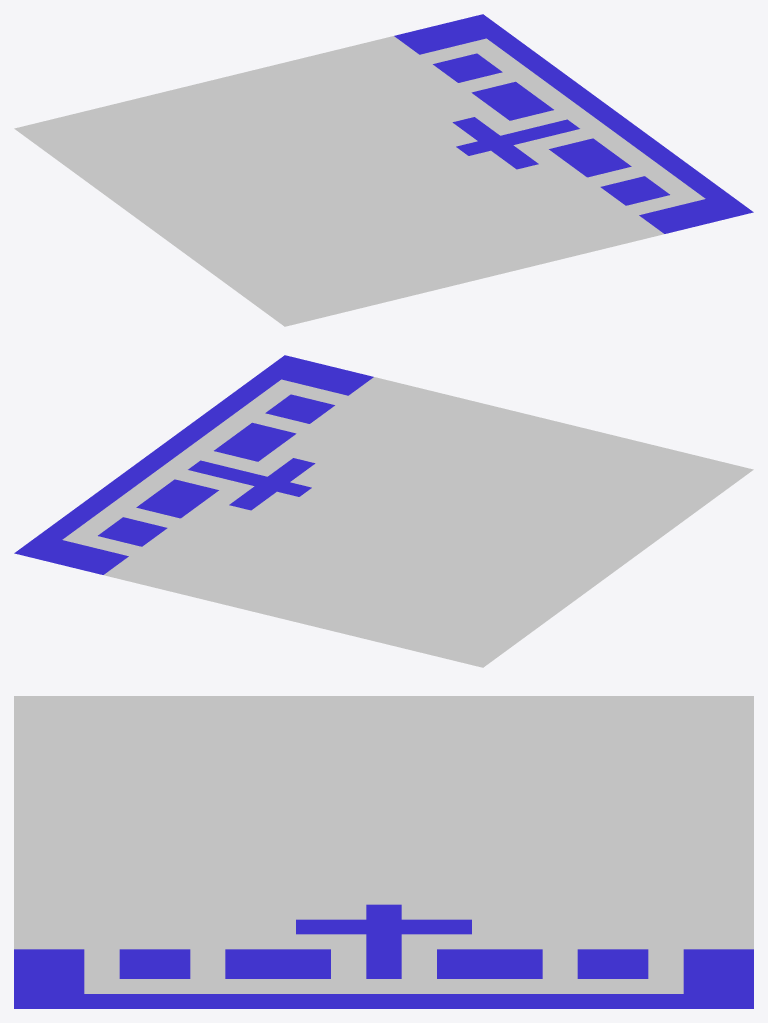
File: maze.glb
3 views of the same model, one above another, from view 1: azimuth 30°, elevation 25°; view 2: azimuth 150°, elevation 25°; view 3: azimuth 270°, elevation 25° (orthographic). The views are drawn at different scales.
Visible parts, largest first — view 1: Plane; view 2: Plane; view 3: Plane.
Boxes of the visible parts, bbox=[...] form: Plane: bbox=[14, 14, 753, 326]; Plane: bbox=[14, 355, 753, 667]; Plane: bbox=[14, 696, 753, 1008].
Bounding box in the file's own units: 32 × 0 × 32.
